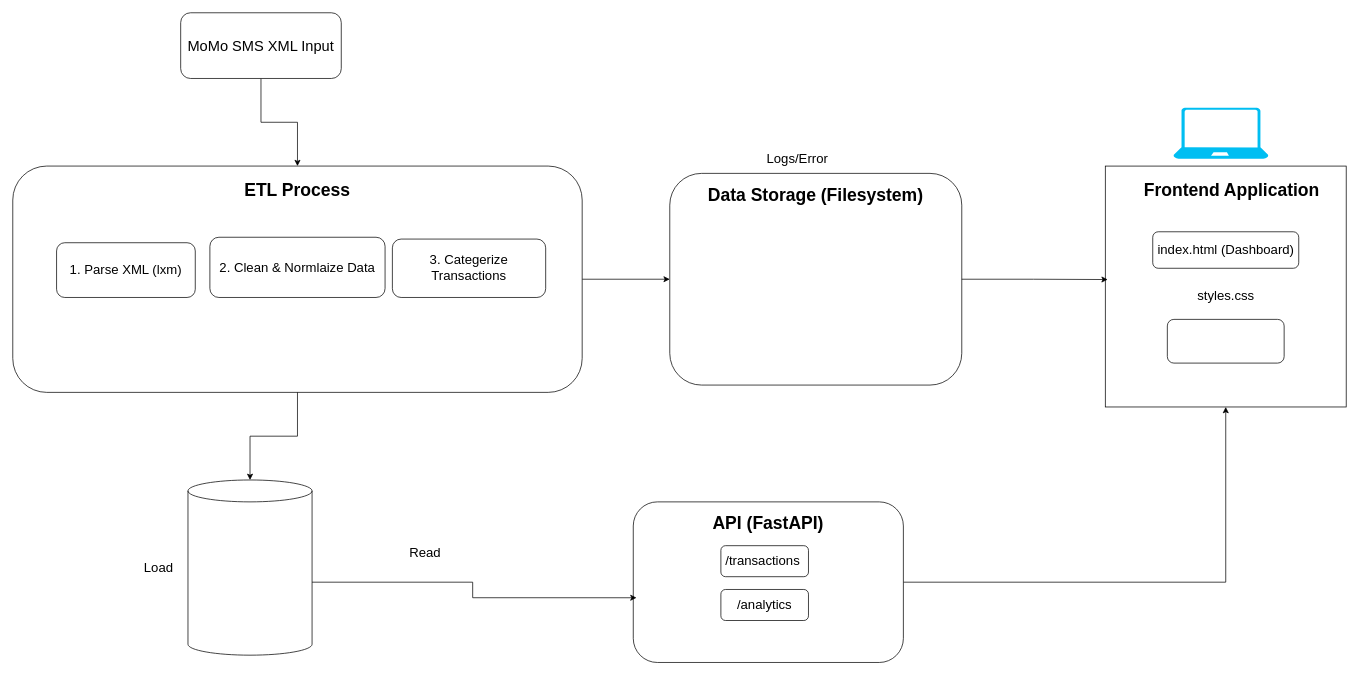
Image size: 1359x675. Some labels were removed from this diagram. Each missing label, with the box of its shape:
chart_hander.js: (1167, 319, 1284, 363)
raw/momo.xml processed/dashboard.json logs/etl.log: (669, 173, 962, 385)
Relational Database (SQlite): (187, 479, 312, 655)
